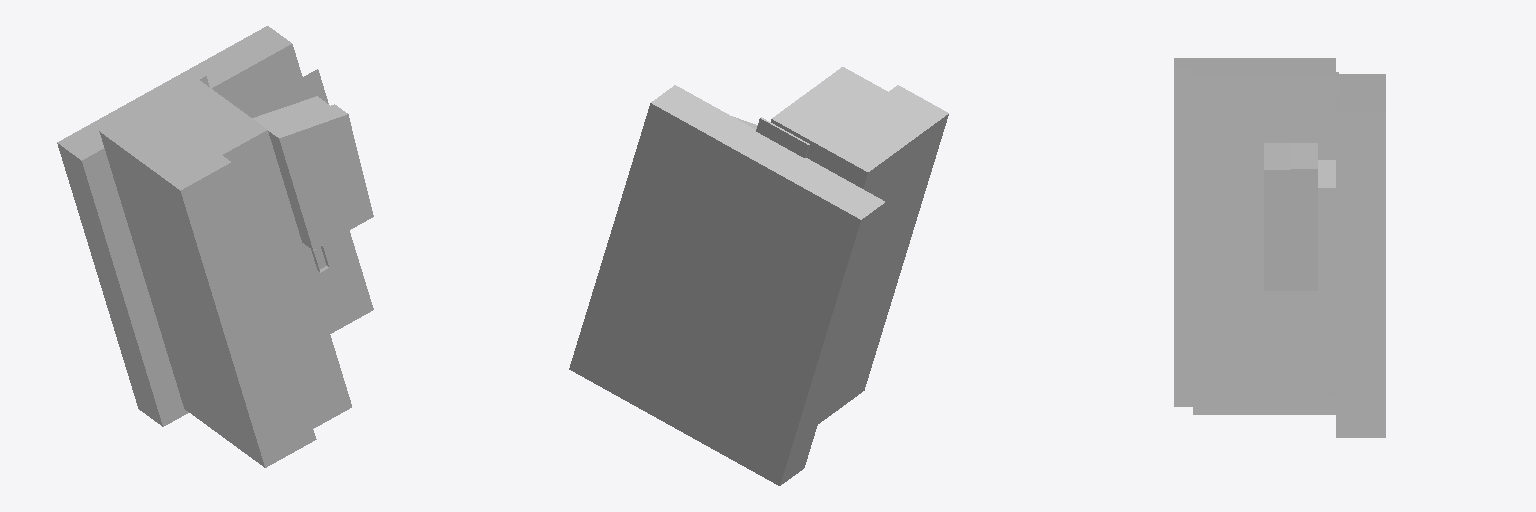
The model's file is Opt3-1.obj.
3 views of the same model, side by side, from view 1: azimuth 30°, elevation 25°; view 2: azimuth 150°, elevation 25°; view 3: azimuth 270°, elevation 25° (orthographic).
Bounding box in the file's own units: 246 × 283 × 154.